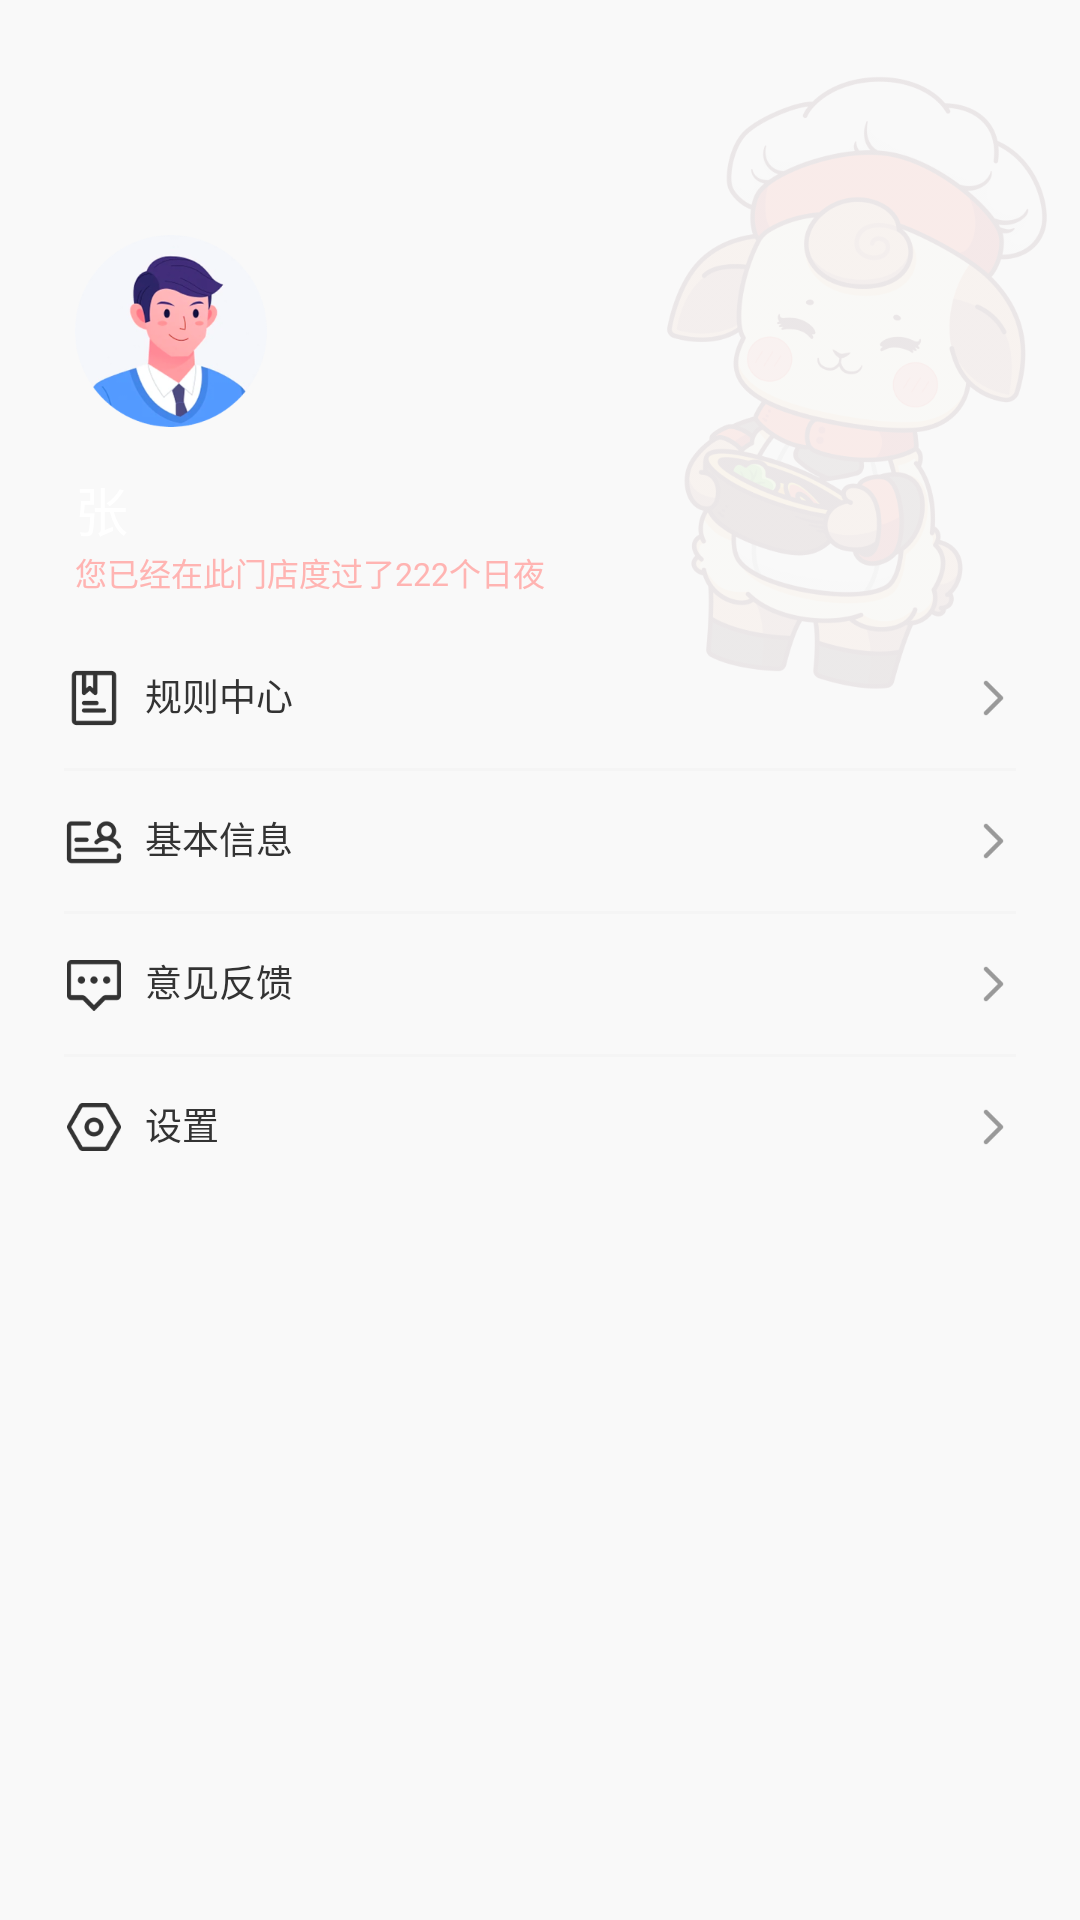

Where to tap for icons on this 1080px x 1920px app screen, as [x,y]:
mine head: [169,341]
